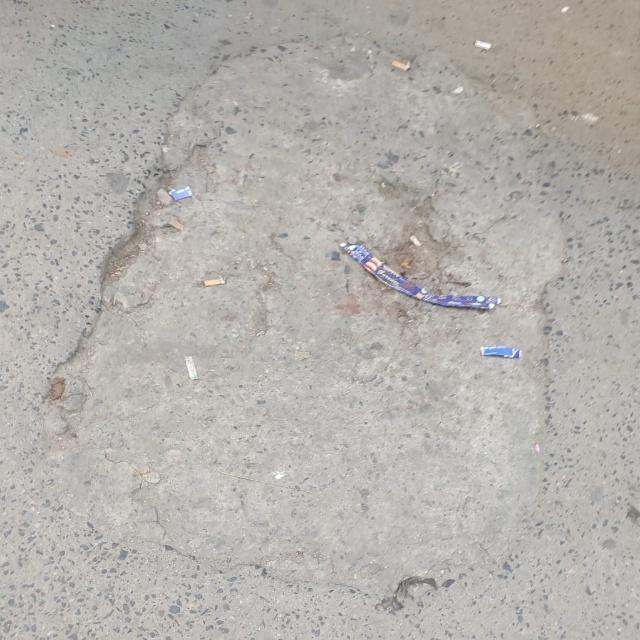Surface Erosion: (61, 53, 627, 640)
